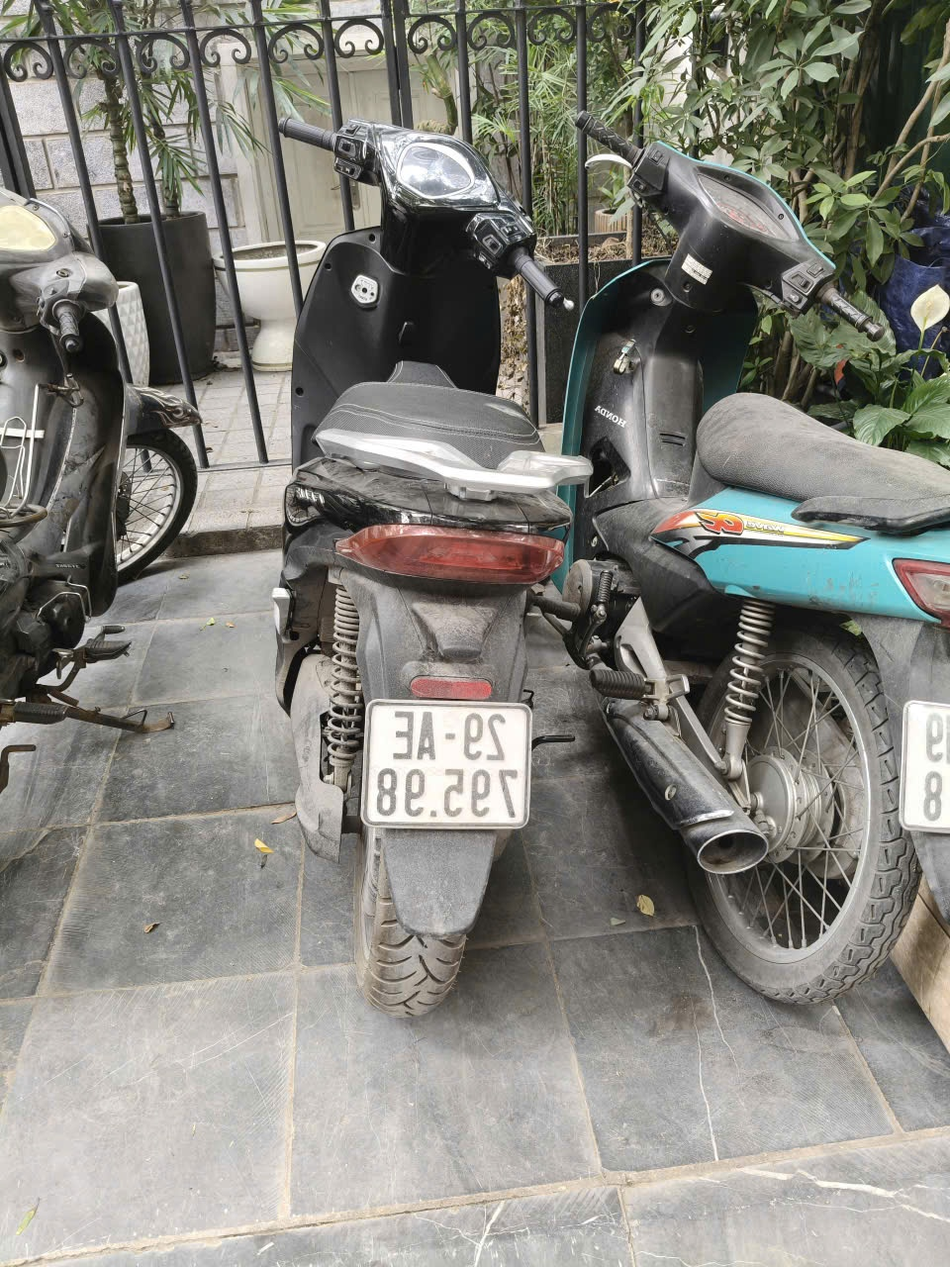plate: (444, 476, 561, 508)
